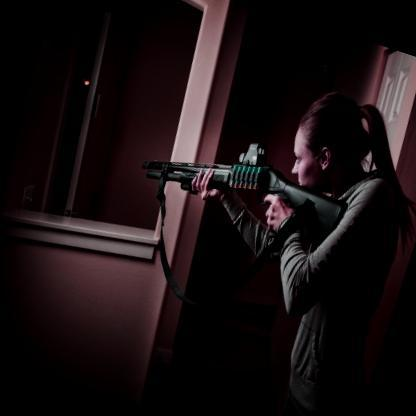rifle: (128, 110, 362, 260)
